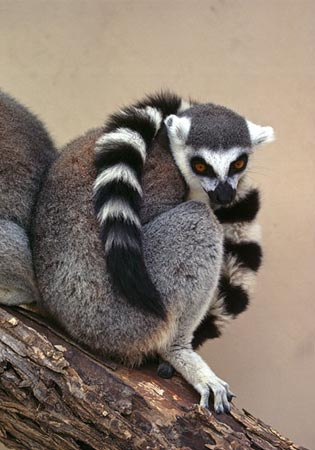cat: (24, 88, 276, 419), (0, 88, 58, 307)
